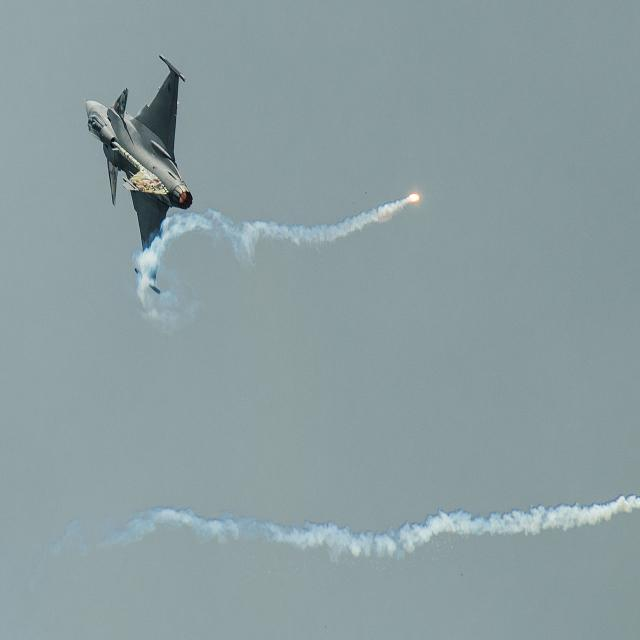MIL_Plane: (81, 55, 193, 295)
